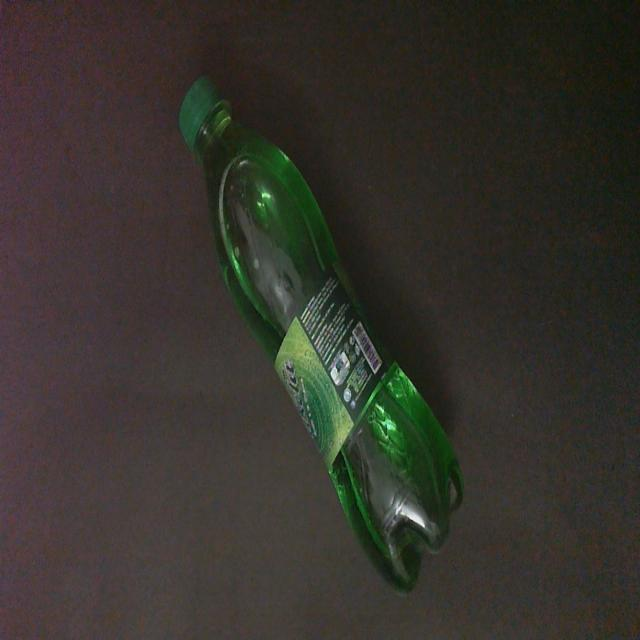non-defect: (176, 69, 466, 596)
